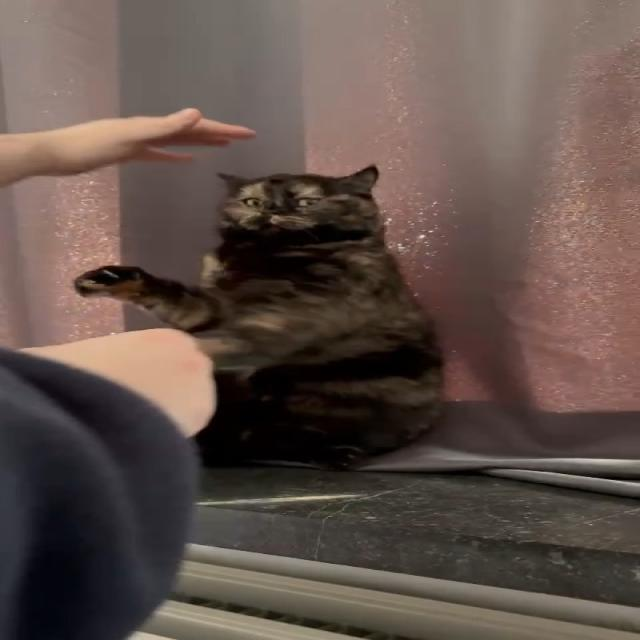authorized: (72, 163, 447, 470)
